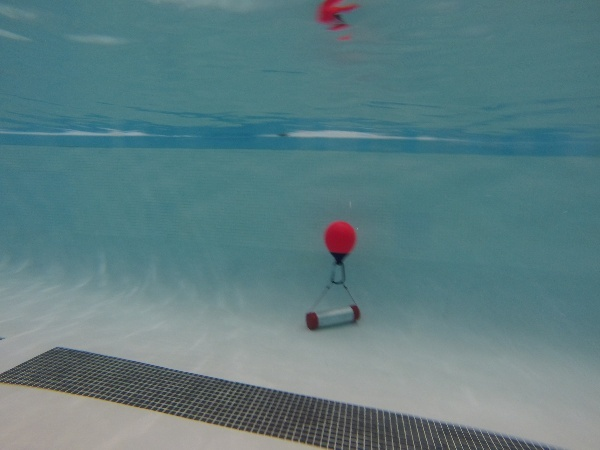buoy_red: (319, 216, 361, 269)
